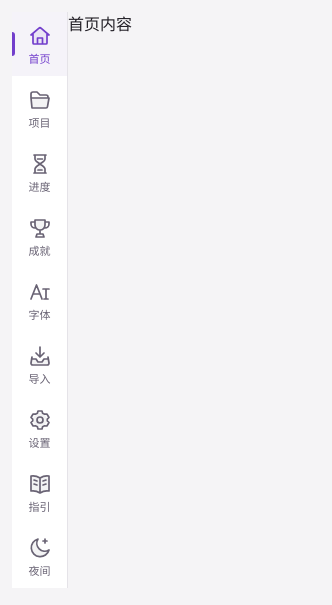
App navigation › opens the project index when the project button is clicked
The width and height of the screenshot is (332, 605).
Step 1. Click the button with test id "nav-project" → [40, 108], box x1=12 y1=76 x2=67 y2=140
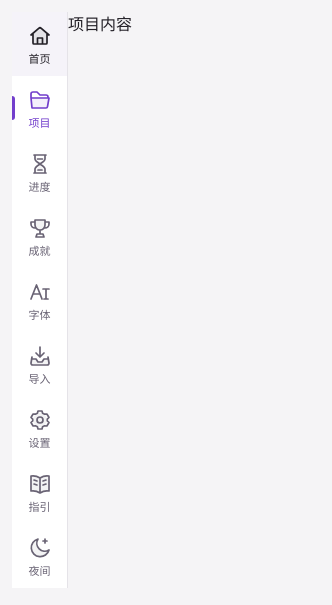
Now the text "项目内容" is shown, box x1=68 y1=14 x2=132 y2=34
